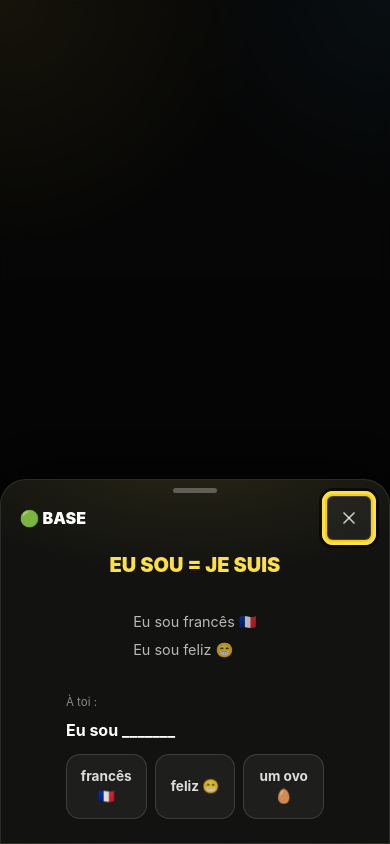
it: LearningMomentSheet › la mini-interaction accepte n'importe quel choix et affiche « Muito bem! », jamais une erreur
Click the button "um ovo 🥚". click: (284, 786)
box: [243, 754, 324, 819]
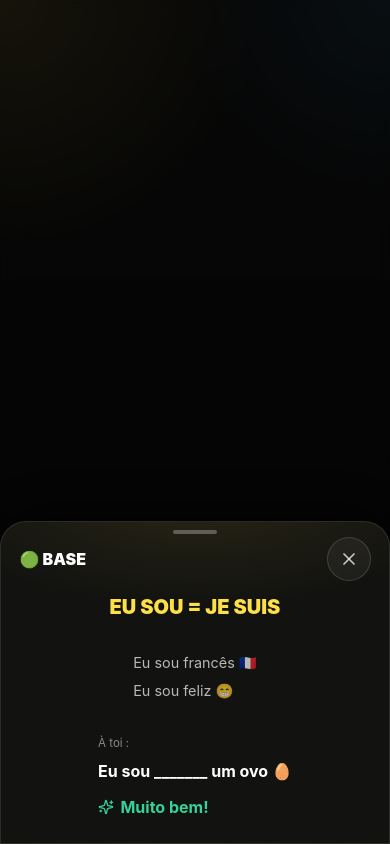
Now the text "Muito bem!" is shown, box [98, 797, 209, 817]
